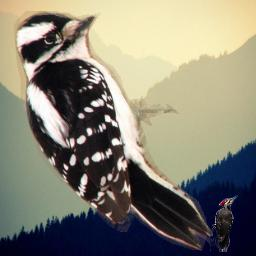Woodpecker: (14, 11, 213, 255), (210, 195, 239, 252)
